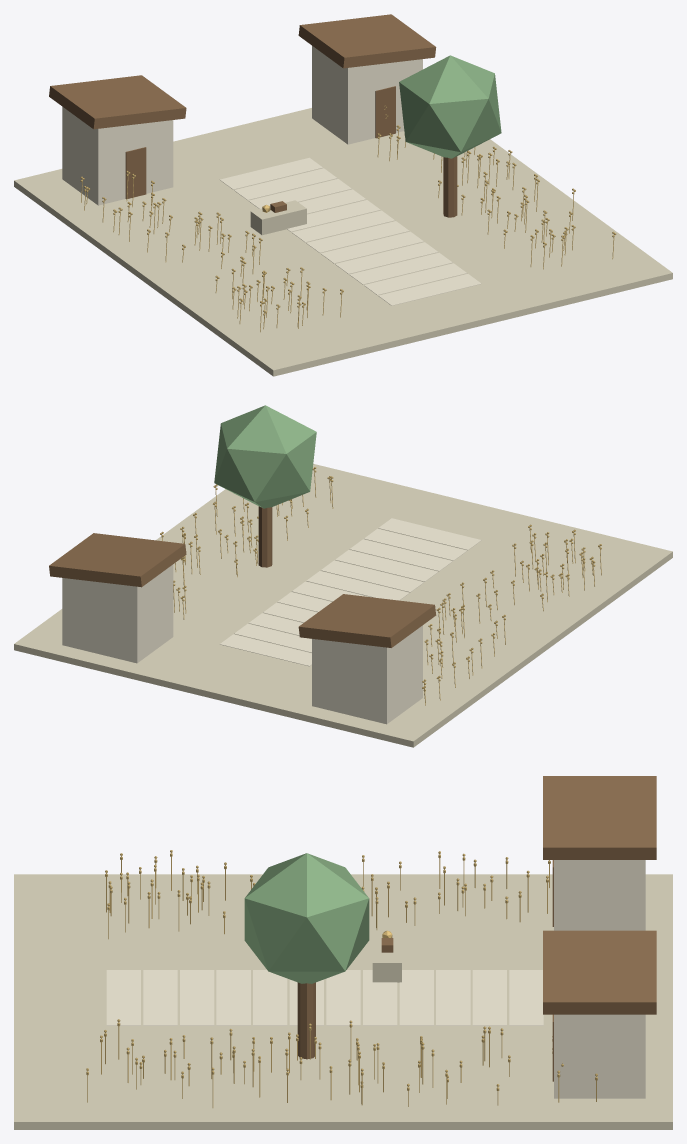
Rendered from wheat.fbx.
3 renders of one model, top to bottom at view 1: azimuth 30°, elevation 25°; view 2: azimuth 150°, elevation 25°; view 3: azimuth 270°, elevation 25°, orthographic. The views are drawn at different scales.
Parts seen in each view (by area): view 1: Outing_stone, Outing_ivory, Outing_wood, Outing_leaf, Outing_wheat, Outing_gold; view 2: Outing_stone, Outing_ivory, Outing_wood, Outing_leaf, Outing_wheat, Outing_gold; view 3: Outing_stone, Outing_ivory, Outing_wood, Outing_leaf, Outing_wheat, Outing_gold.
Boxes of the visible parts, <box> form: Outing_stone: <box>14,108,672,376</box>; Outing_ivory: <box>62,46,481,305</box>; Outing_wood: <box>49,14,457,217</box>; Outing_leaf: <box>399,55,501,158</box>; Outing_wheat: <box>81,127,614,332</box>; Outing_gold: <box>80,105,616,315</box>; Outing_stone: <box>14,464,672,747</box>; Outing_ivory: <box>62,518,481,724</box>; Outing_wood: <box>49,506,436,647</box>; Outing_leaf: <box>214,405,316,508</box>; Outing_wheat: <box>161,468,601,705</box>; Outing_gold: <box>160,467,601,690</box>; Outing_stone: <box>14,874,672,1129</box>; Outing_ivory: <box>106,860,645,1098</box>; Outing_wood: <box>297,776,656,1081</box>; Outing_leaf: <box>244,853,369,983</box>; Outing_wheat: <box>87,852,596,1107</box>; Outing_gold: <box>86,850,597,1090</box>.
Bounding box in the file's own units: 1600 × 634 × 1800.
